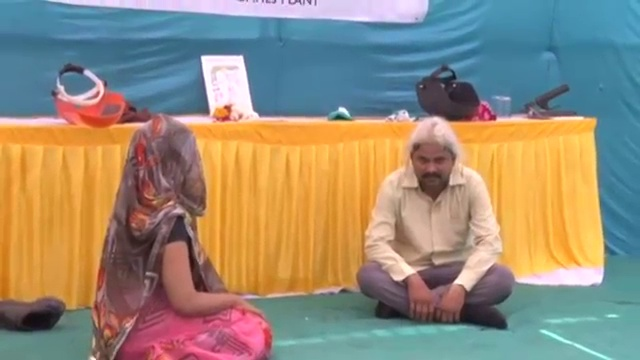helmet_off: (122, 117, 210, 218), (411, 118, 456, 191)
person: (83, 115, 274, 360), (356, 117, 518, 332)
